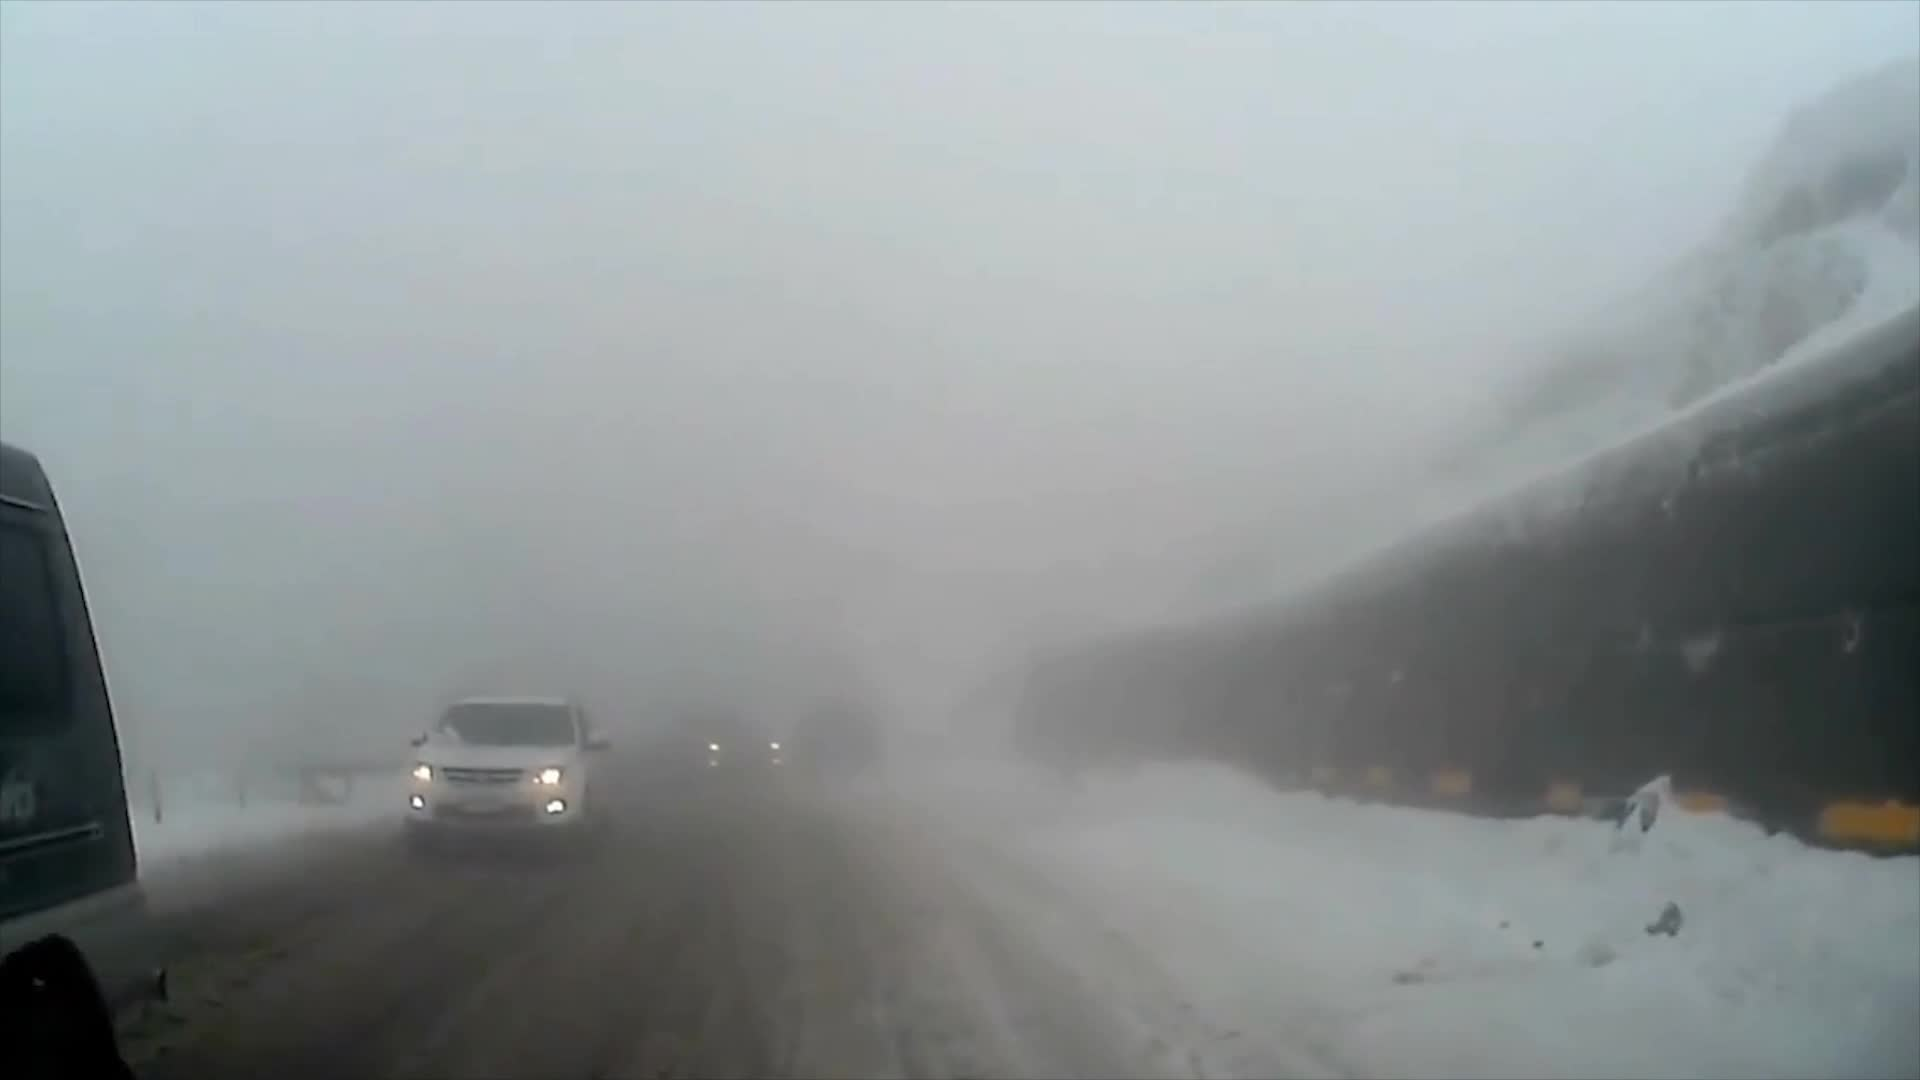vehicle: (0, 443, 174, 1080), (400, 688, 618, 858)
